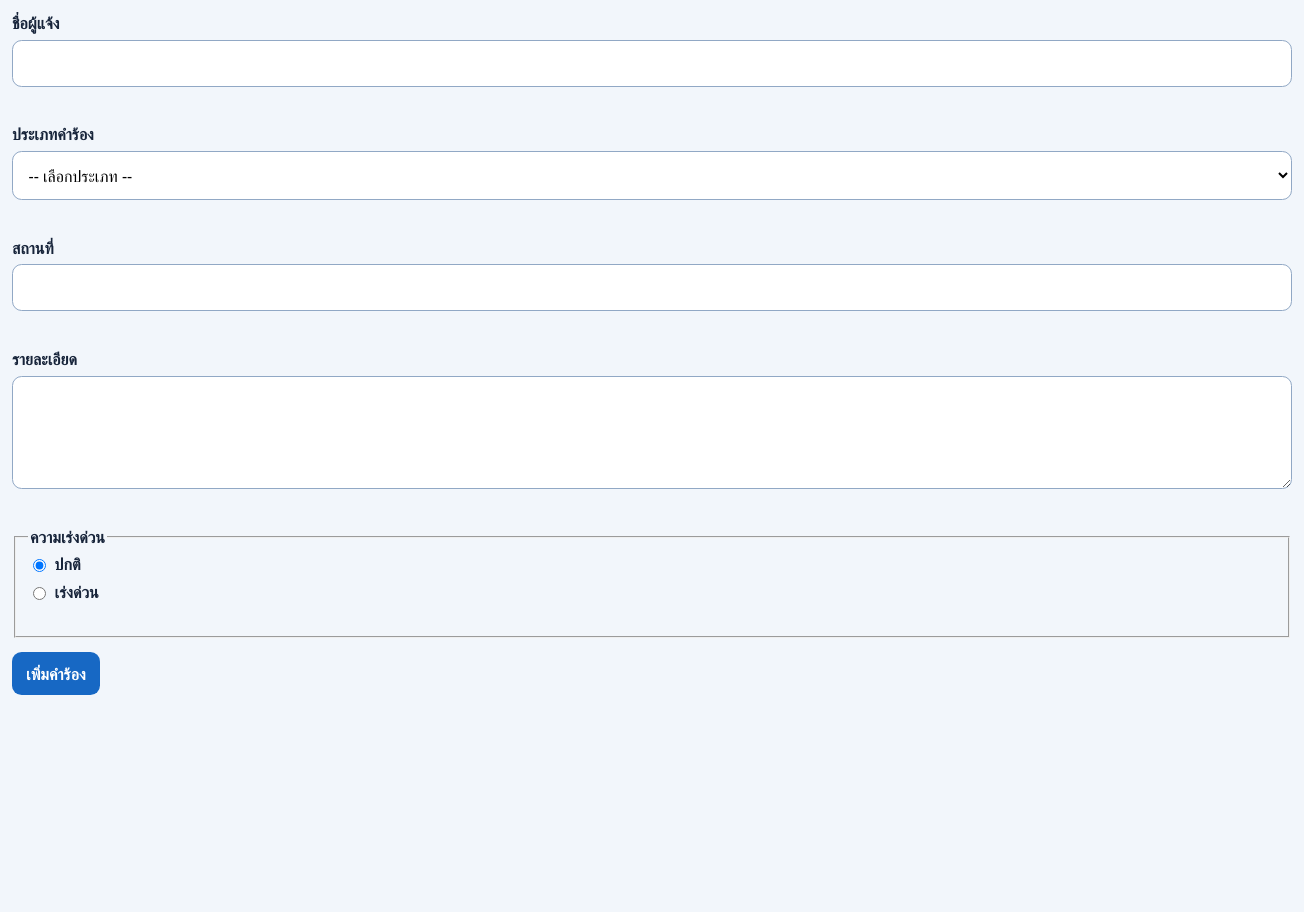
RequestForm › รายละเอียดสั้นกว่า 10 ตัวอักษร -> ไม่ผ่าน
Type "ญาณากร" into the field labelled "ชื่อผู้แจ้ง".
click(652, 63); type("ญาณากร")  # box [12,40,1292,87]
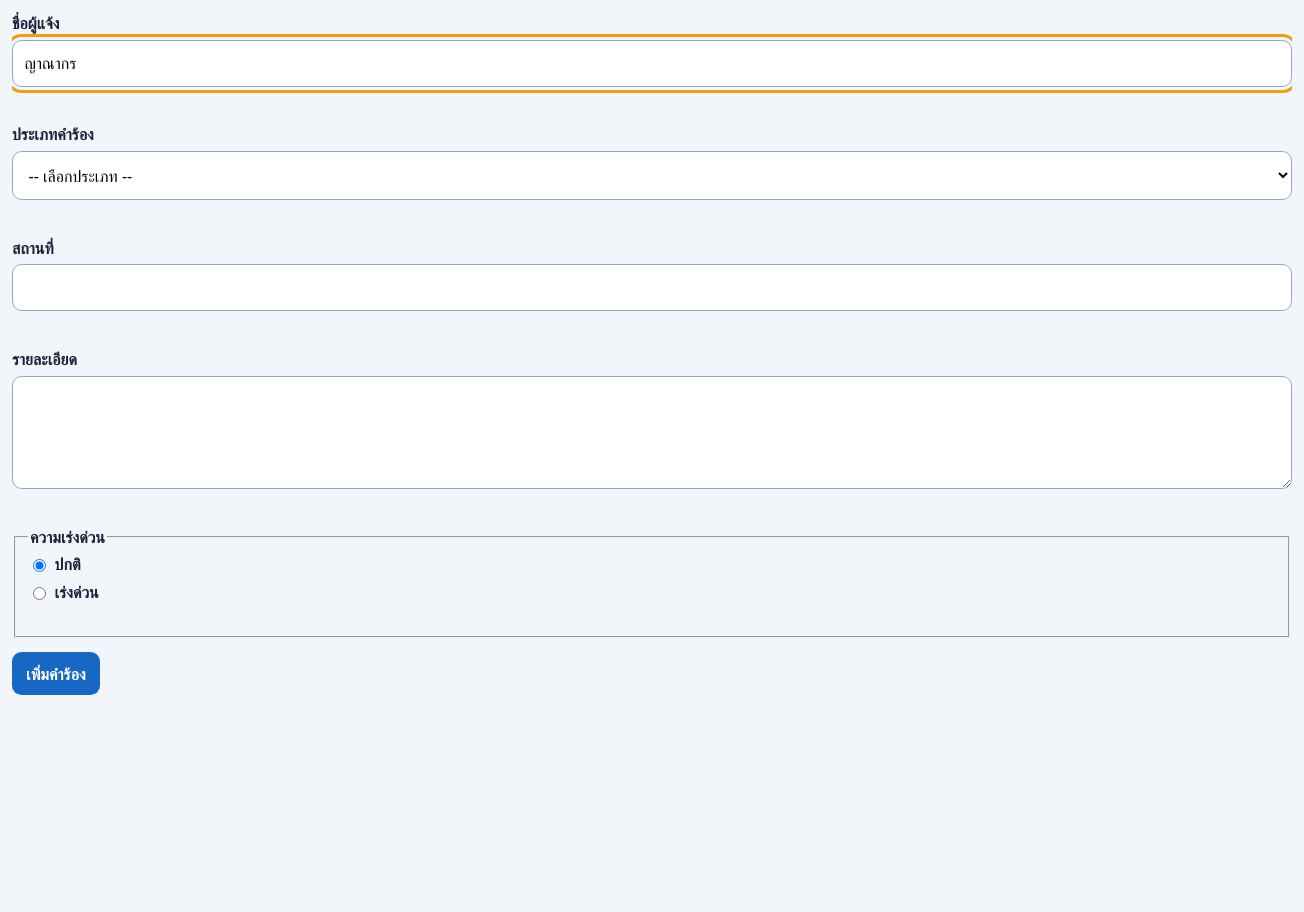
Select "แจ้งซ่อม" in the dropdown labelled "ประเภทคำร้อง" at {"x": 652, "y": 176}, box [12,151,1292,200]
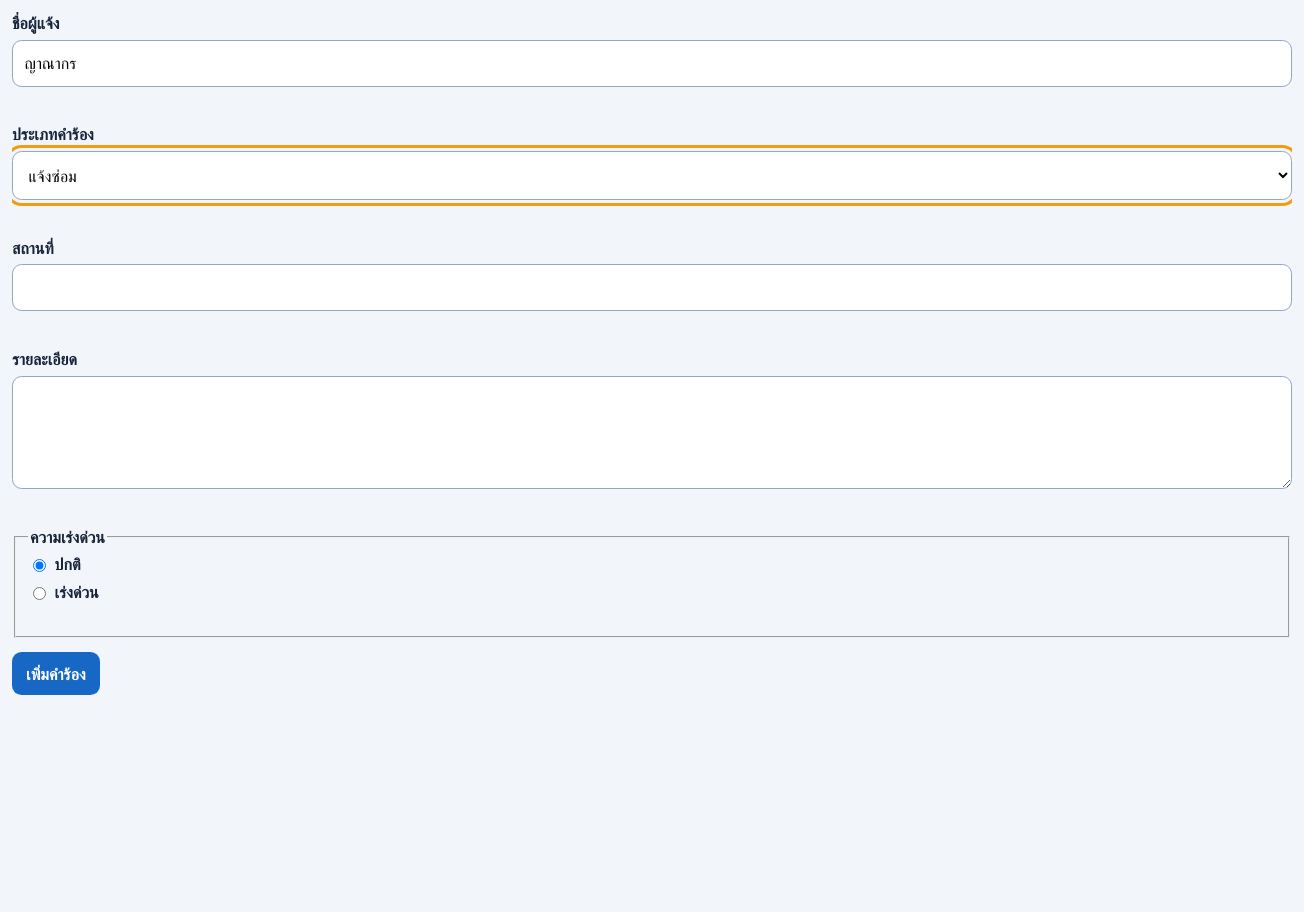
Type "ห้อง 301" into the field labelled "สถานที่".
click(652, 288); type("ห้อง 301")  # box [12,264,1292,311]
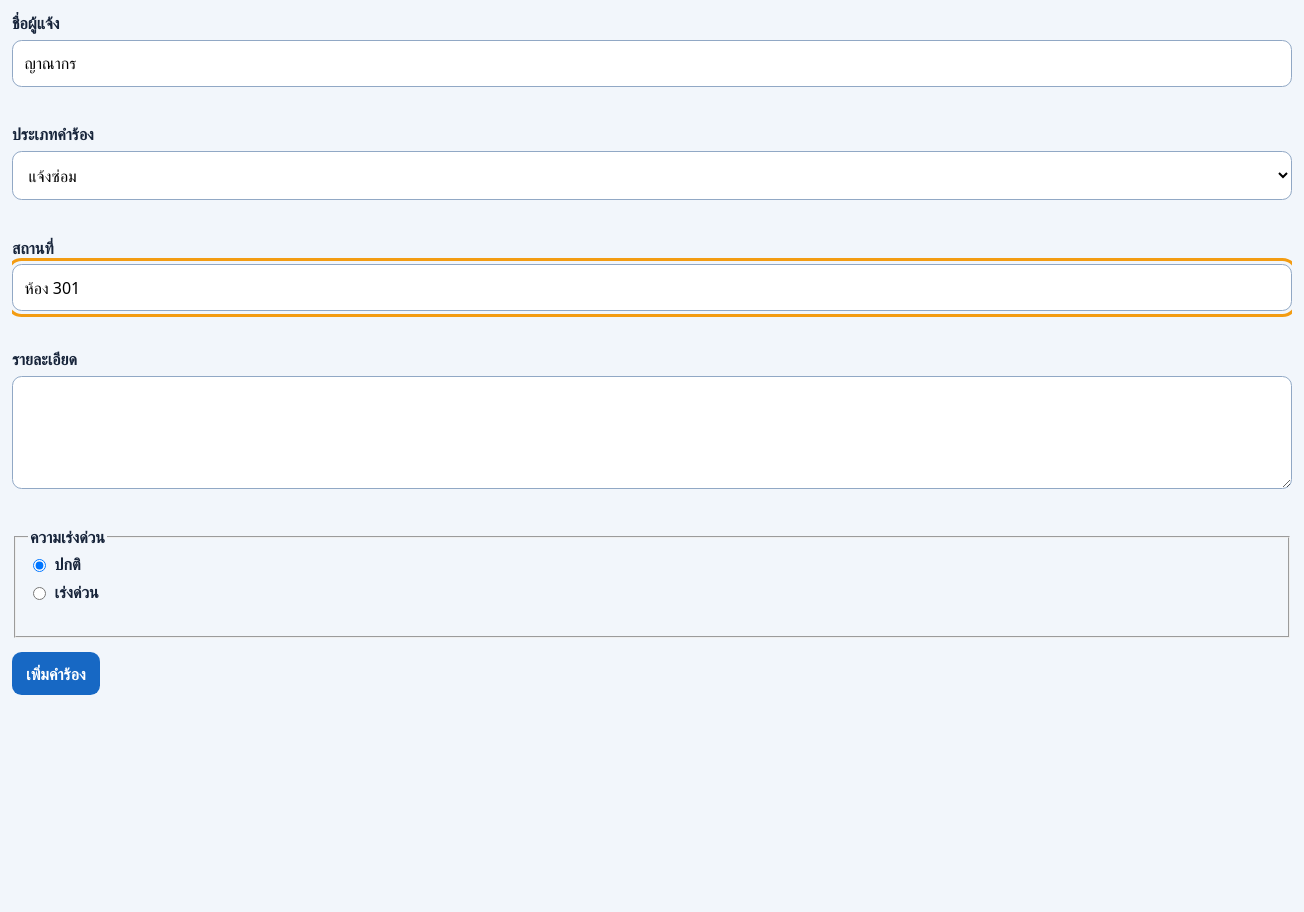
Type "สั้น" into the text box labelled "รายละเอียด".
click(652, 432); type("สั้น")  # box [12,376,1292,489]
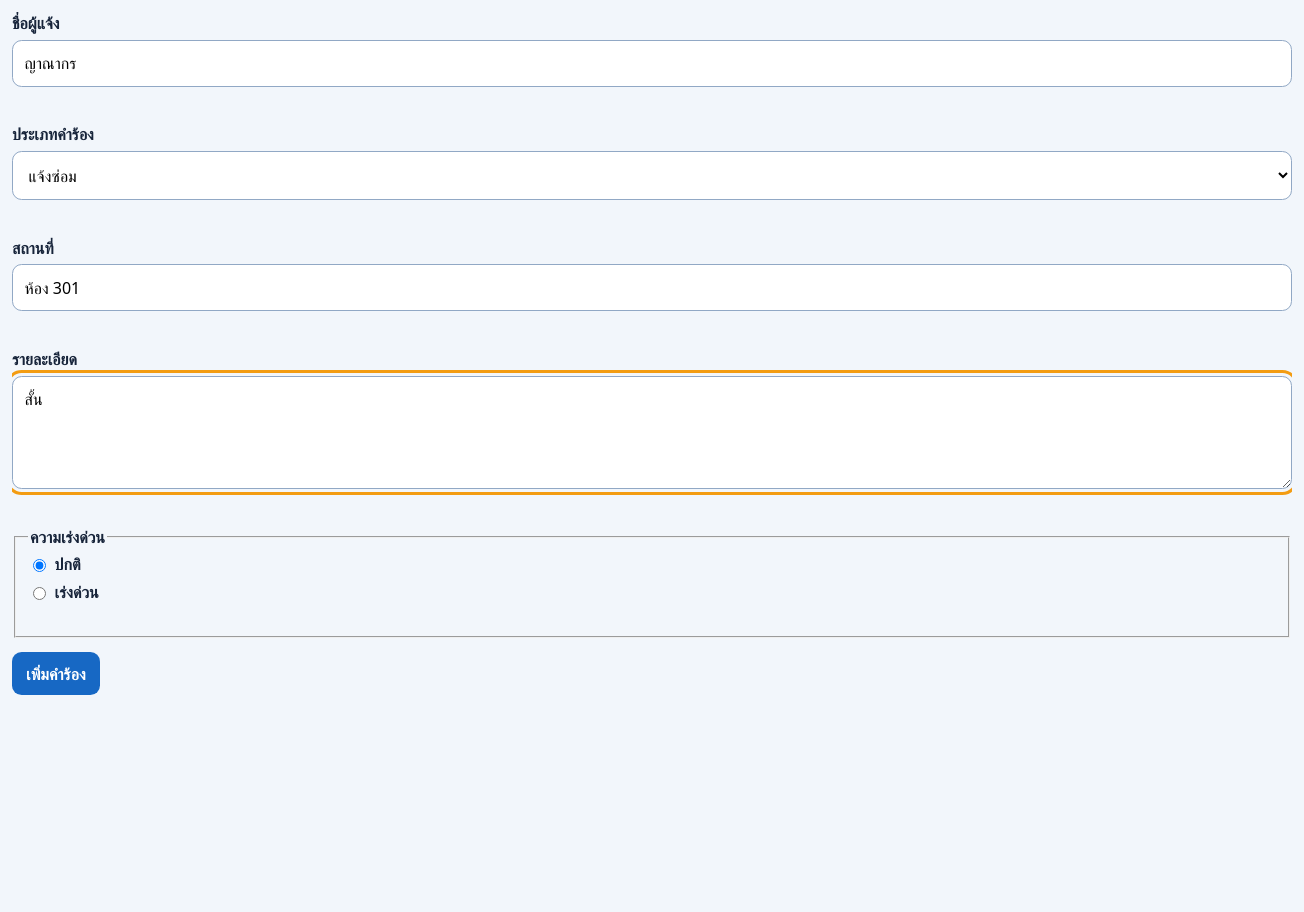
Click the button "เพิ่มคำร้อง".
click(56, 674)  # box [12,652,100,695]
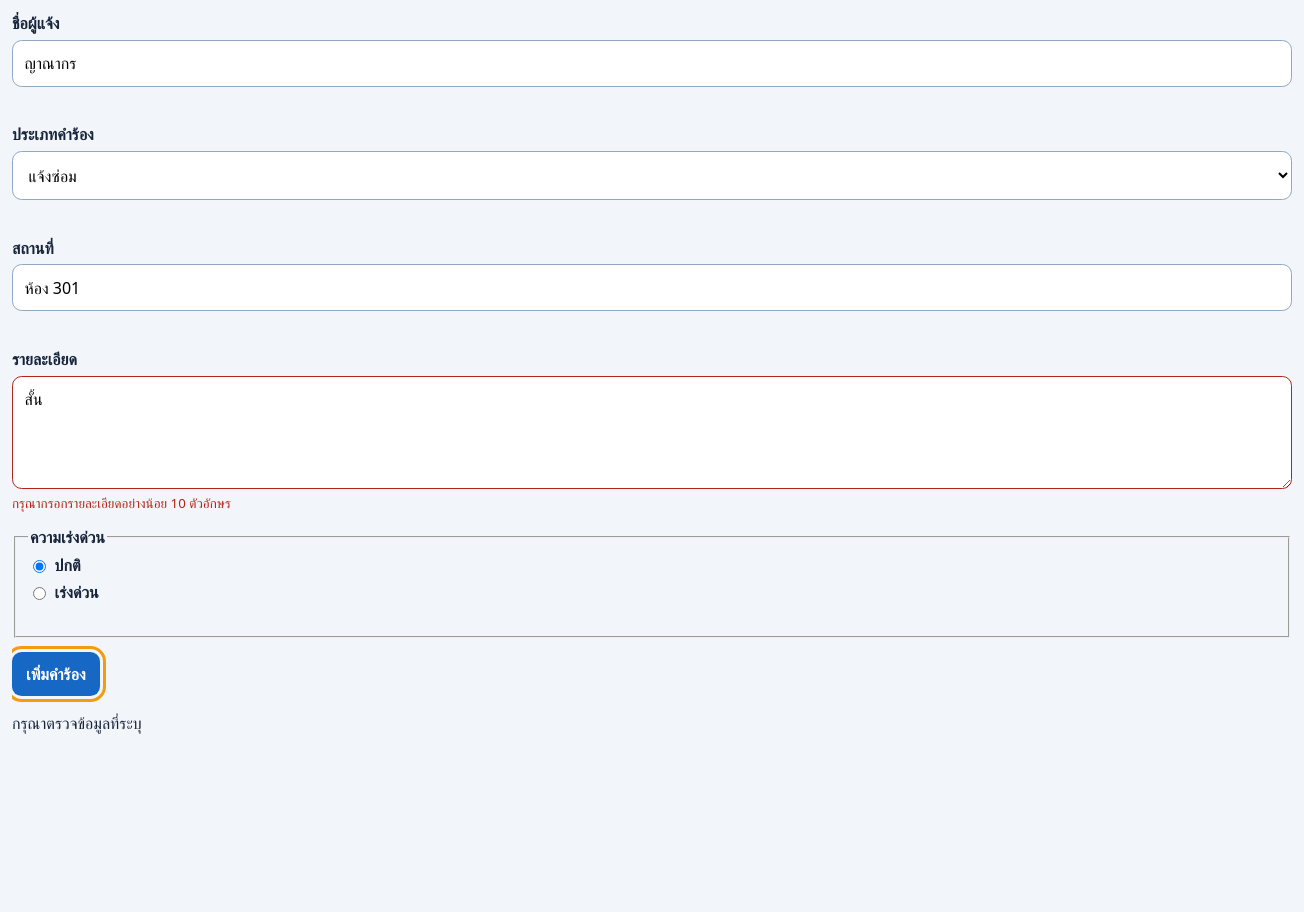
Now the text "กรุณากรอกรายละเอียดอย่างน้อย 10 ตัวอักษร" is shown, box [12,494,231,512]
